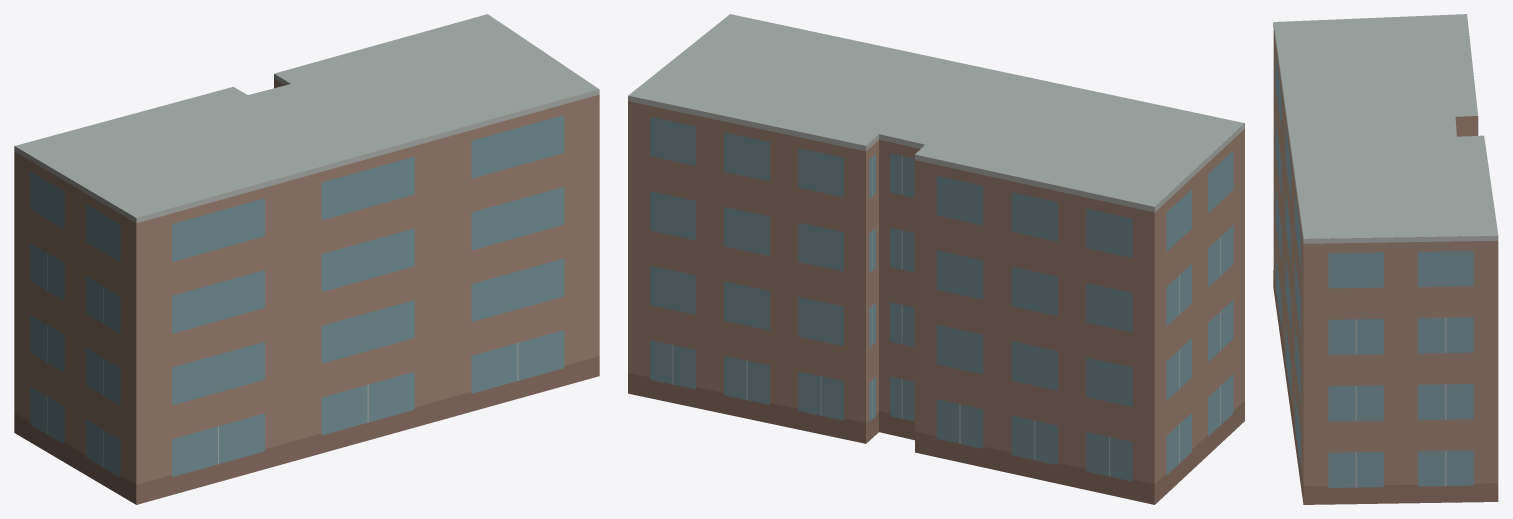
File: survey-upis-32709053.glb
The picture shows the model from 3 angles, left to right: view 1: azimuth 30°, elevation 25°; view 2: azimuth 150°, elevation 25°; view 3: azimuth 270°, elevation 25°; orthographic projection. The views are drawn at different scales.
Parts seen in each view (by area): view 1: survey-upis-32709053.tmp; view 2: survey-upis-32709053.tmp; view 3: survey-upis-32709053.tmp.
Part boxes in pixels (x1,y1,x2,y2): survey-upis-32709053.tmp: (14, 14, 599, 504); survey-upis-32709053.tmp: (628, 14, 1244, 504); survey-upis-32709053.tmp: (1273, 14, 1498, 504).
Size of the model in its own units: 23.94 by 13.2 by 10.13.
